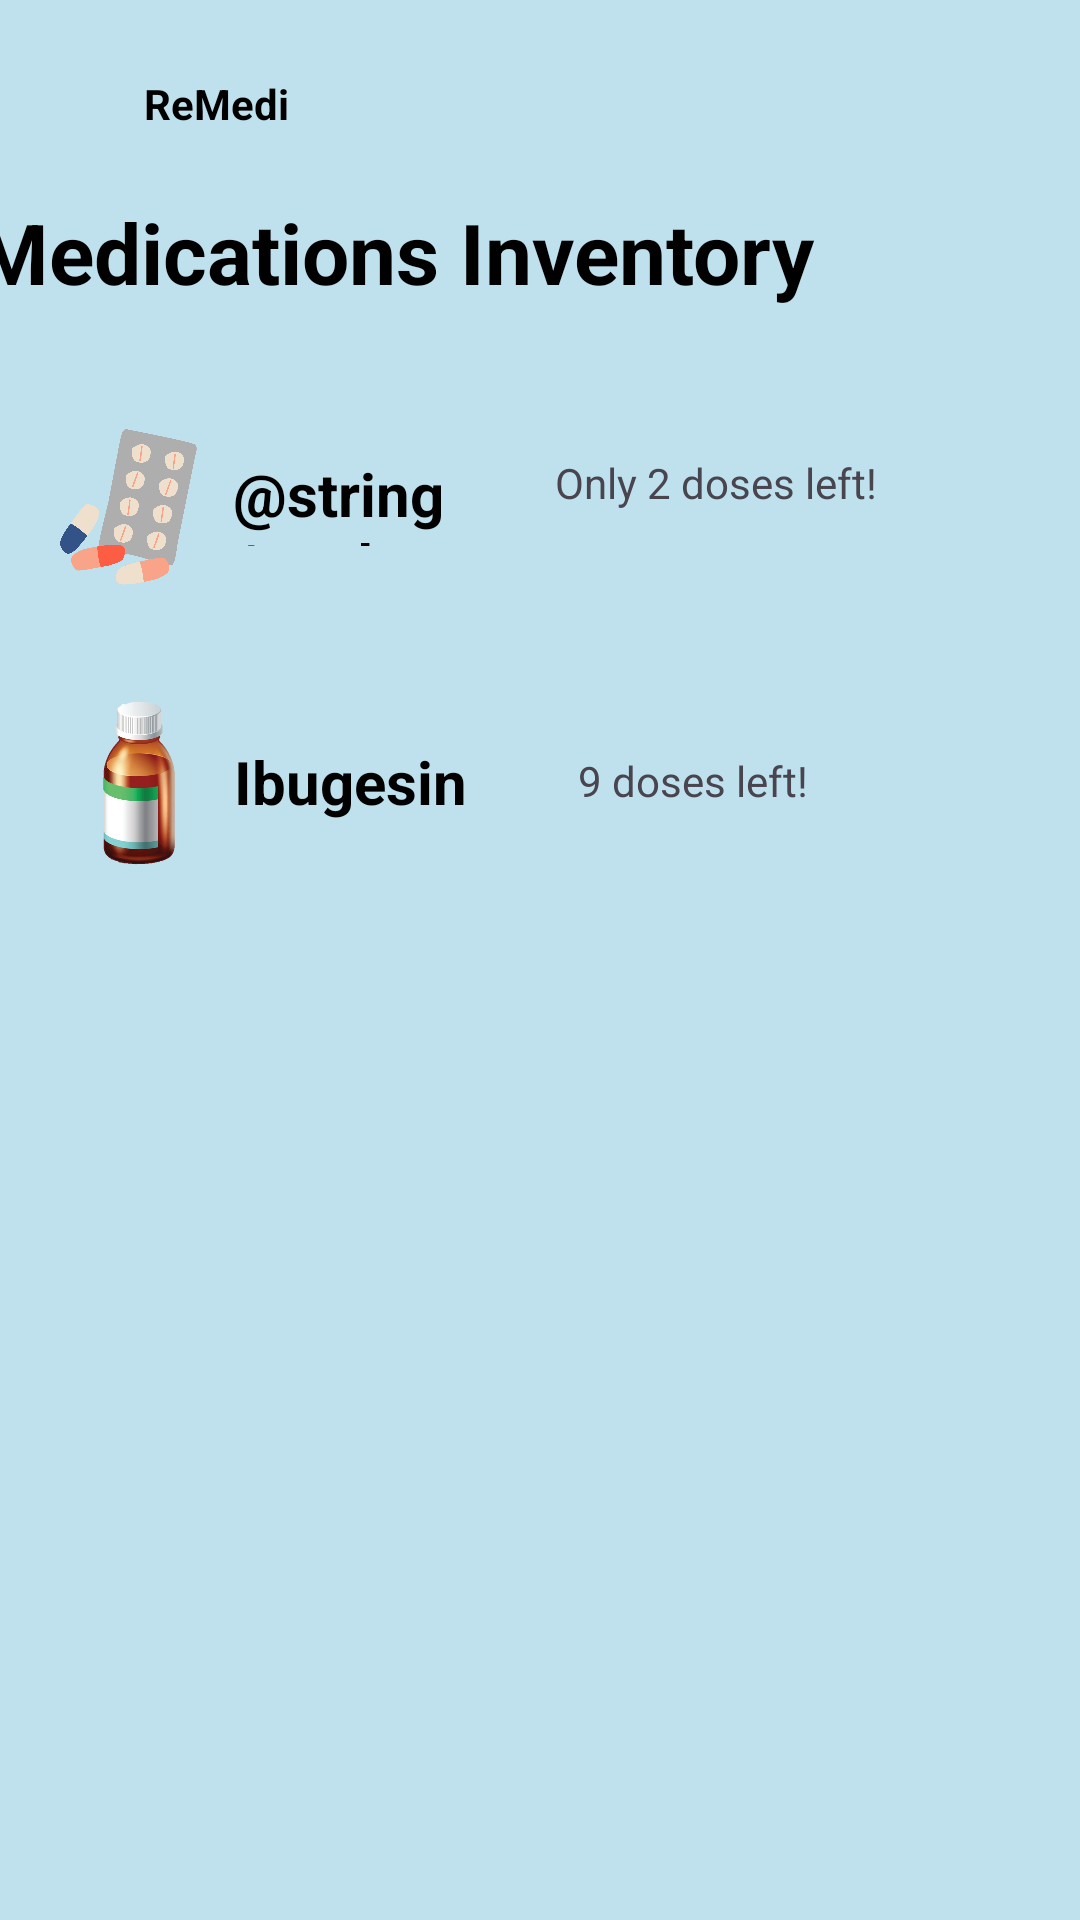

Named icons in this screenshot (1080x1920) and their centers, point (x, y):
pill: point (128, 506)
syrup: point (139, 783)
